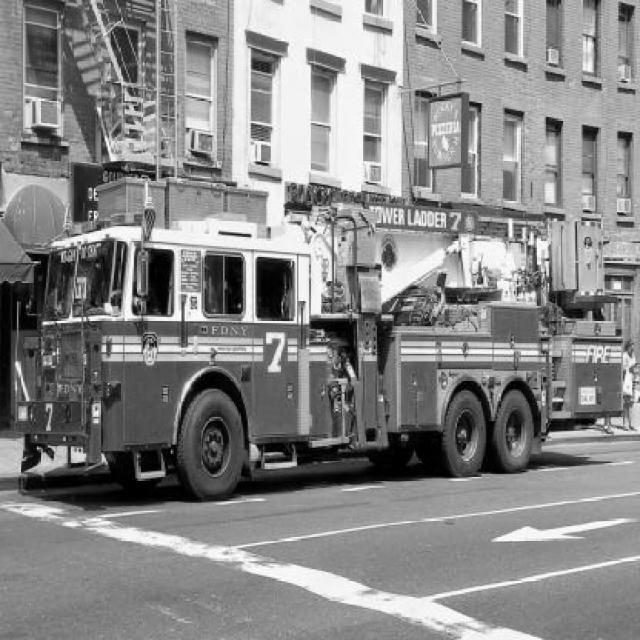Fire Truck: (15, 202, 625, 502)
